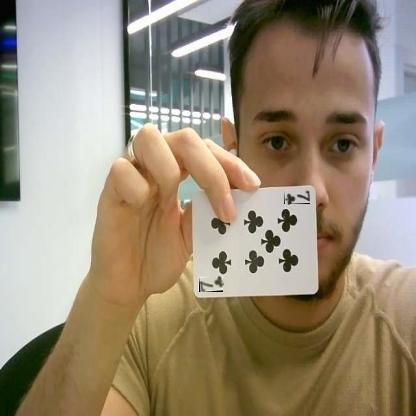7C: (199, 276, 223, 292), (284, 190, 310, 204)
